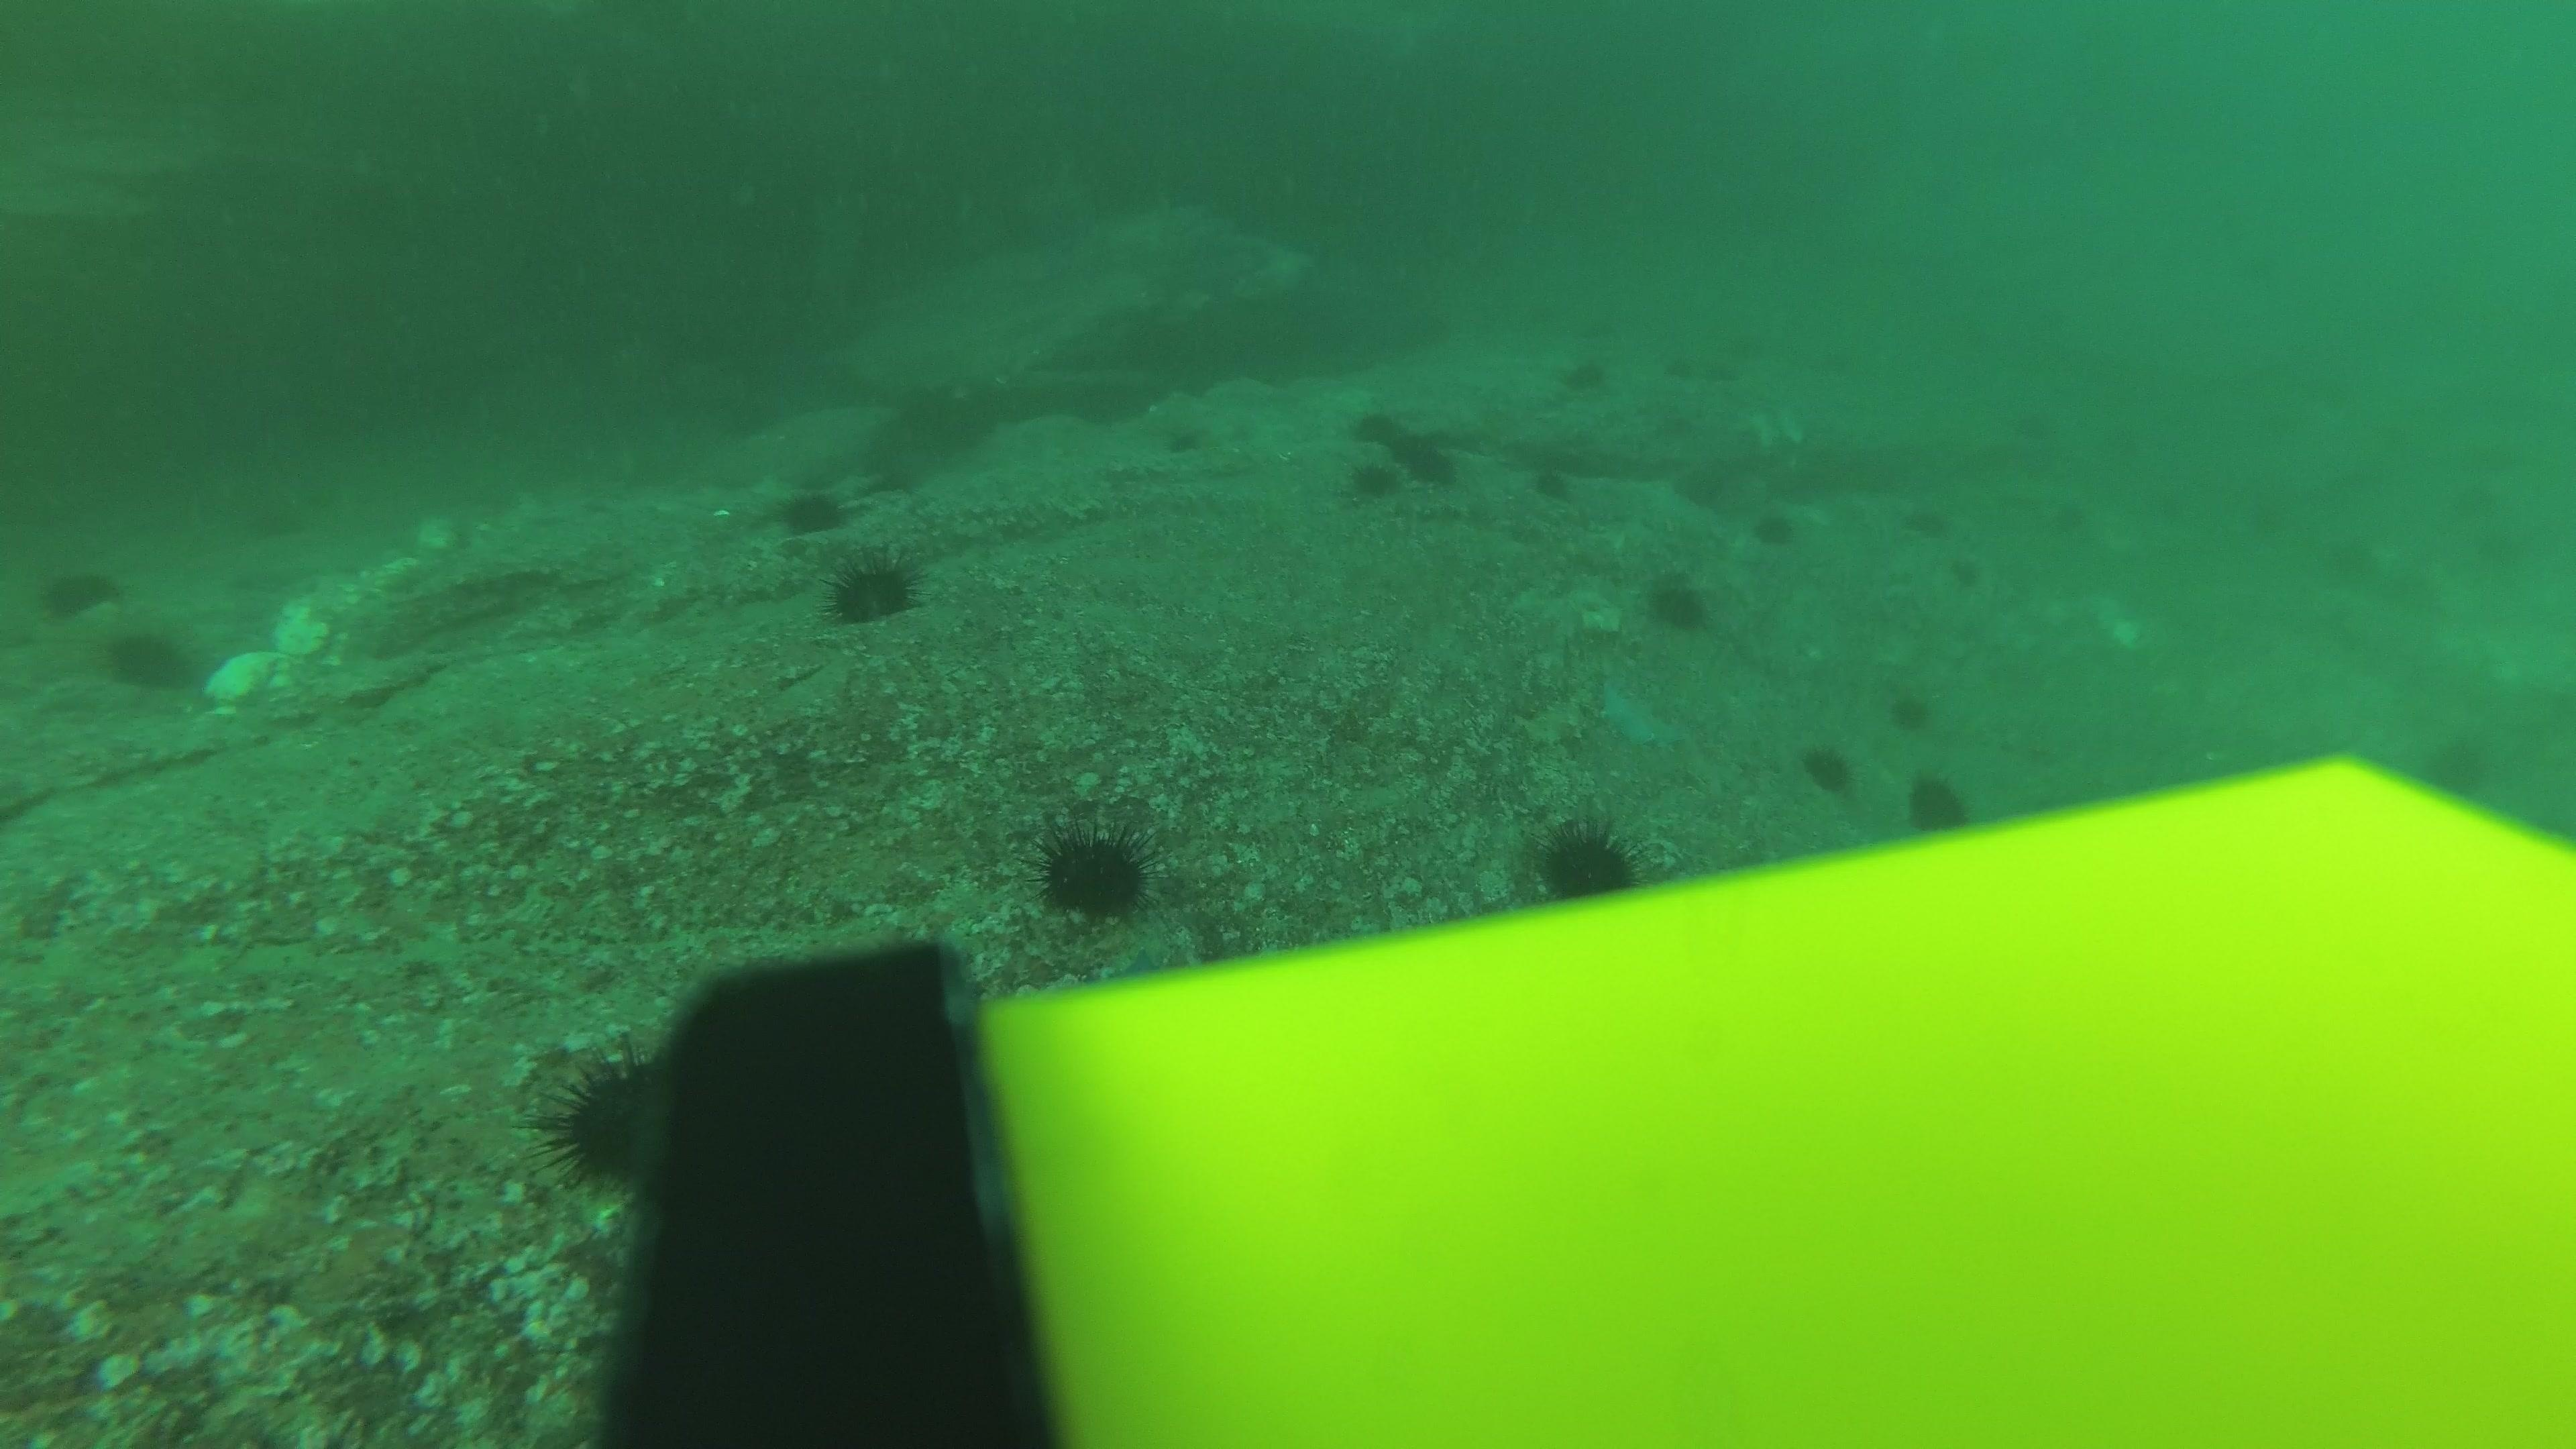echinus: (536, 1044, 683, 1200), (1035, 819, 1154, 924), (1532, 816, 1642, 904), (824, 548, 922, 626), (101, 619, 196, 695), (2422, 731, 2496, 800), (39, 557, 119, 621), (1902, 770, 1976, 837), (1642, 568, 1714, 633), (775, 479, 849, 538), (1343, 458, 1415, 504), (1801, 738, 1856, 796), (1150, 410, 1212, 455), (1886, 683, 1936, 734), (1651, 345, 1702, 395), (1557, 352, 1614, 396), (1748, 504, 1799, 552), (1902, 499, 1953, 547), (1932, 547, 1983, 594), (2054, 497, 2105, 545), (2012, 400, 2063, 448), (2111, 419, 2162, 467), (1408, 446, 1461, 492), (1679, 469, 1729, 513), (1527, 460, 1578, 502), (1357, 409, 1403, 449), (1394, 430, 1438, 469)
starfish: (1592, 672, 1686, 752)
